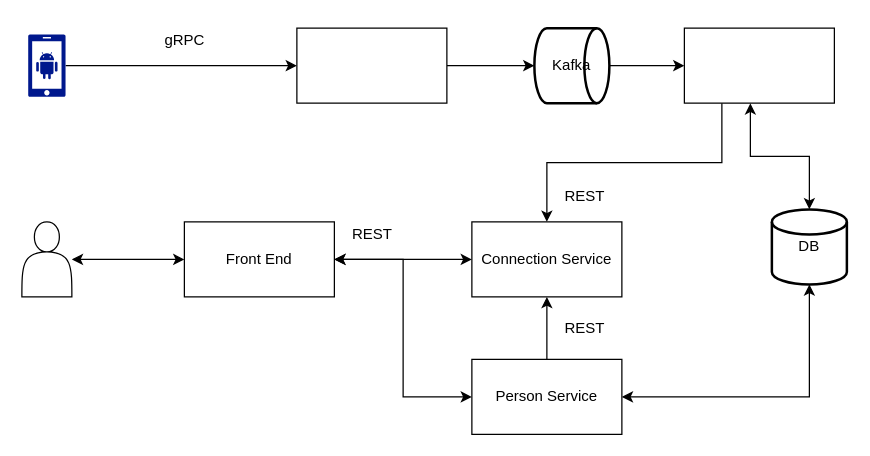
Some shapes in this 870 by 456 pixel diagram are drawn without their labels. The box of each missing label's shape, as (x1, y1, x2, y2) in pixels:
Location gRPC server: (296, 27, 447, 103)
Location Service: (683, 27, 834, 103)
